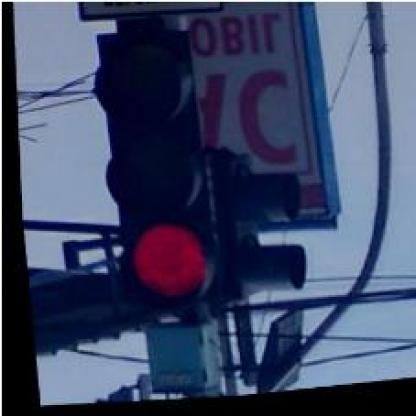red: (76, 25, 221, 316)
